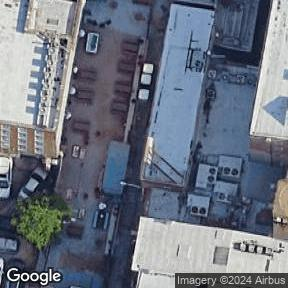vegetation: (3, 179, 77, 253)
